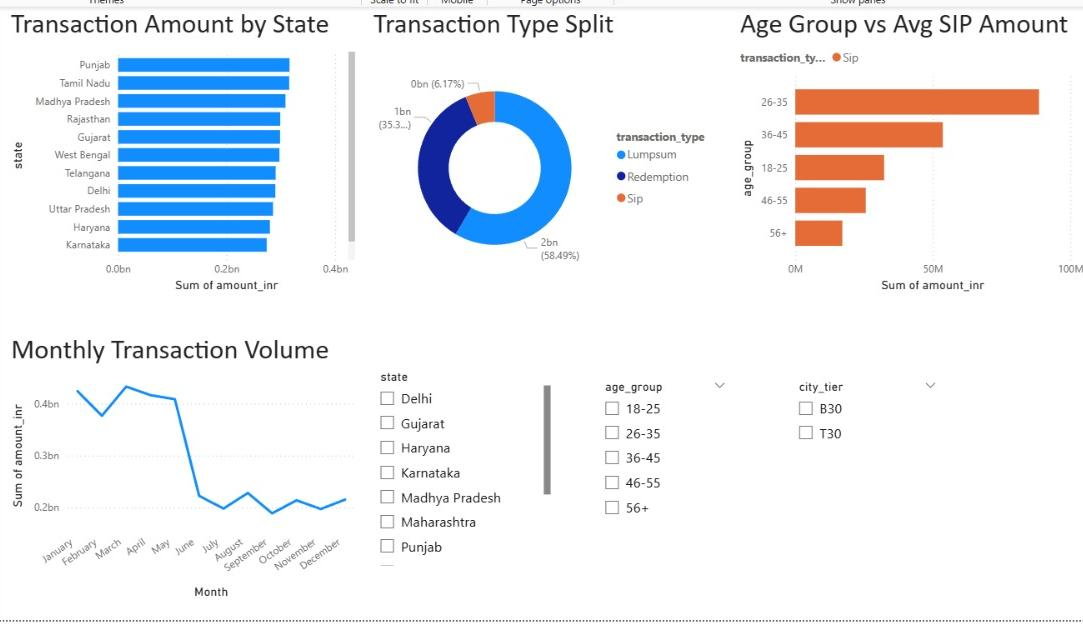

What the dashboard file says about the page in this screenshot:
{"tool":"powerbi","page":{"name":"Investor Analytics","canvas":[1280,720],"ordinal":2},"visuals":[{"type":"barChart","title":"Transaction Amount by State","fields":{"Category":["08_investor_transactions_clean.state"],"Y":["Sum(08_investor_transactions_clean.amount_inr)"]},"box":[10,0,413.8,340],"z":0},{"type":"donutChart","title":"Transaction Type Split","fields":{"Category":["08_investor_transactions_clean.transaction_type"],"Y":["Sum(08_investor_transactions_clean.amount_inr)"]},"box":[435,0,413.8,340],"z":1000},{"type":"barChart","title":"Age Group vs Avg SIP Amount","fields":{"Y":["Sum(08_investor_transactions_clean.amount_inr)"],"Category":["08_investor_transactions_clean.age_group"],"Series":["08_investor_transactions_clean.transaction_type"]},"box":[866.2,0,413.8,340],"z":2000},{"type":"lineChart","title":"Monthly Transaction Volume","fields":{"Y":["Sum(08_investor_transactions_clean.amount_inr)"],"Category":["08_investor_transactions_clean.transaction_date.Variation.Date Hierarchy.Month"]},"box":[10,382.5,413.8,317.5],"z":3000},{"type":"slicer","fields":{"Values":["08_investor_transactions_clean.state"]},"box":[435,421.2,217.5,240],"z":4000},{"type":"slicer","fields":{"Values":["08_investor_transactions_clean.age_group"]},"box":[700,432.5,166.2,228.8],"z":5000},{"type":"slicer","fields":{"Values":["08_investor_transactions_clean.city_tier"]},"box":[927.5,432.5,186.2,230],"z":6000}]}

Visuals, with their boxes on the page's 1280x720 design canvas (x1, y1, x2, y2). These are canvas units, not pixel positions in the 1083x624 screenshot, which may show the page scaled, cropped or inside an application window:
"Transaction Amount by State" barChart: 10 0 424 340
"Transaction Type Split" donutChart: 435 0 849 340
"Age Group vs Avg SIP Amount" barChart: 866 0 1280 340
"Monthly Transaction Volume" lineChart: 10 382 424 700
slicer - 08_investor_transactions_clean.state: 435 421 652 661
slicer - 08_investor_transactions_clean.age_group: 700 432 866 661
slicer - 08_investor_transactions_clean.city_tier: 928 432 1114 662
